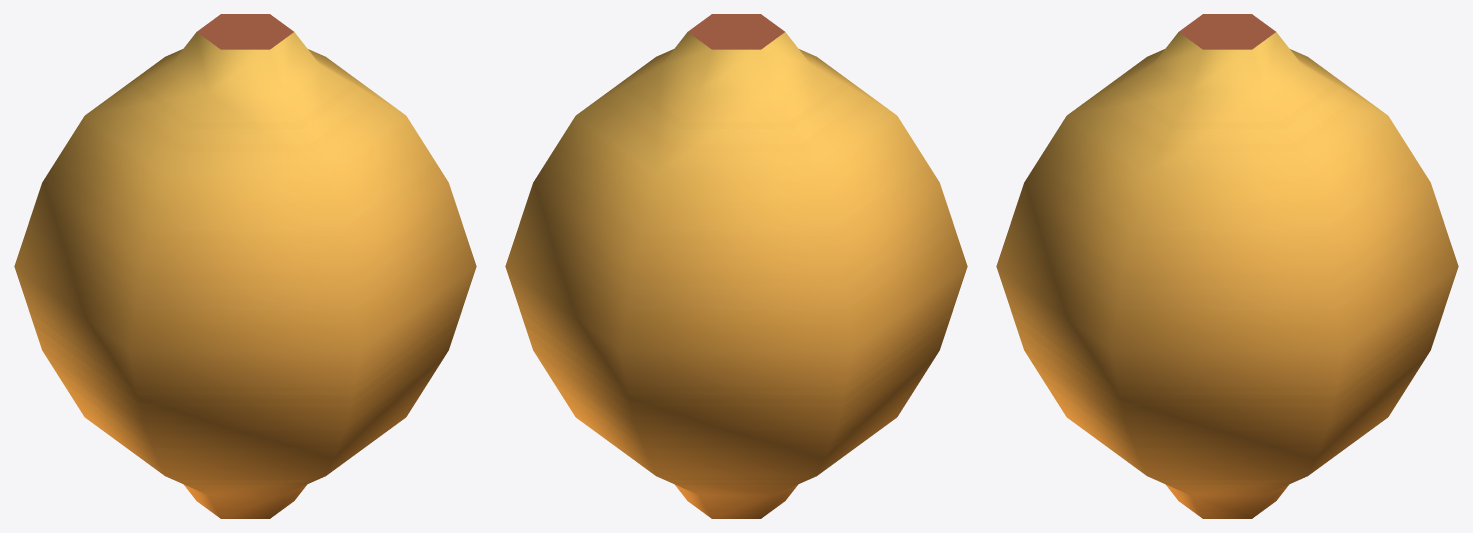
3 renders of one model, left to right at view 1: azimuth 30°, elevation 25°; view 2: azimuth 150°, elevation 25°; view 3: azimuth 270°, elevation 25°, orthographic.
Parts seen in each view (by area): view 1: lemon; view 2: lemon; view 3: lemon.
Boxes of the visible parts, bbox=[...] form: lemon: bbox=[14, 14, 476, 518]; lemon: bbox=[505, 14, 967, 518]; lemon: bbox=[996, 14, 1458, 518].
Bounding box in the file's own units: 0.0726 × 0.0939 × 0.0839.
1 material, 1 textured.
